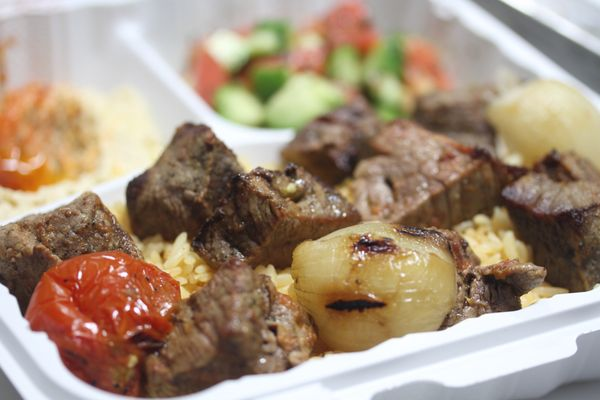curry: (1, 0, 594, 395)
